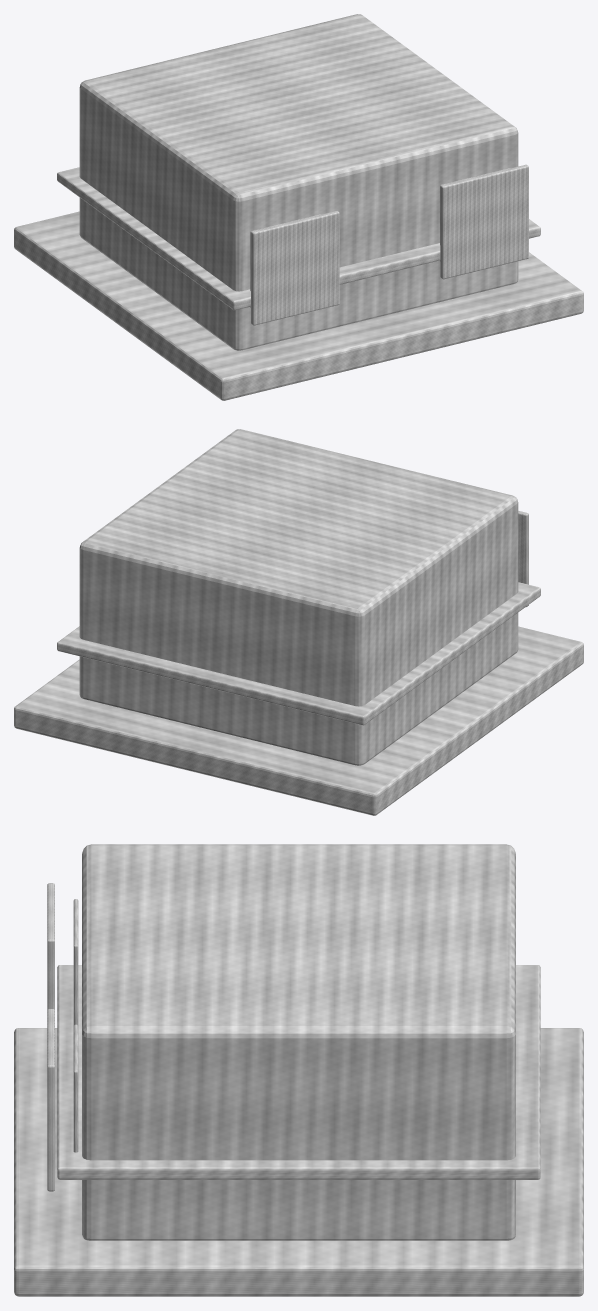
The model's file is u-jelly-landing-pad_variant_a.glb.
3 renders of one model, top to bottom at view 1: azimuth 30°, elevation 25°; view 2: azimuth 150°, elevation 25°; view 3: azimuth 270°, elevation 25°, orthographic. The views are drawn at different scales.
Visible parts, largest first — view 1: Main structural housing, Foundation, Protective frame, Protective frame.001, Landing surface; view 2: Main structural housing, Foundation, Landing surface, Protective frame; view 3: Main structural housing, Foundation, Landing surface, Protective frame.001, Protective frame, Service bay.001, Service bay.
Boxes of the visible parts, x1=… form: Main structural housing: x1=79, y1=14, x2=518, y2=350; Foundation: x1=14, y1=211, x2=583, y2=400; Protective frame: x1=251, y1=211, x2=339, y2=325; Protective frame.001: x1=440, y1=164, x2=528, y2=279; Landing surface: x1=57, y1=167, x2=540, y2=310; Main structural housing: x1=79, y1=429, x2=518, y2=765; Foundation: x1=14, y1=626, x2=583, y2=815; Landing surface: x1=57, y1=582, x2=540, y2=725; Protective frame: x1=518, y1=511, x2=528, y2=606; Main structural housing: x1=82, y1=844, x2=515, y2=1240; Foundation: x1=14, y1=1028, x2=583, y2=1296; Landing surface: x1=57, y1=965, x2=540, y2=1179; Protective frame.001: x1=47, y1=1009, x2=54, y2=1191; Protective frame: x1=47, y1=883, x2=54, y2=1009; Service bay.001: x1=73, y1=1024, x2=78, y2=1152; Service bay: x1=73, y1=899, x2=78, y2=1025.
Size of what is drawn, in the model's own units: 7.36 by 3.45 by 7.36.
6 materials, 6 textured.
